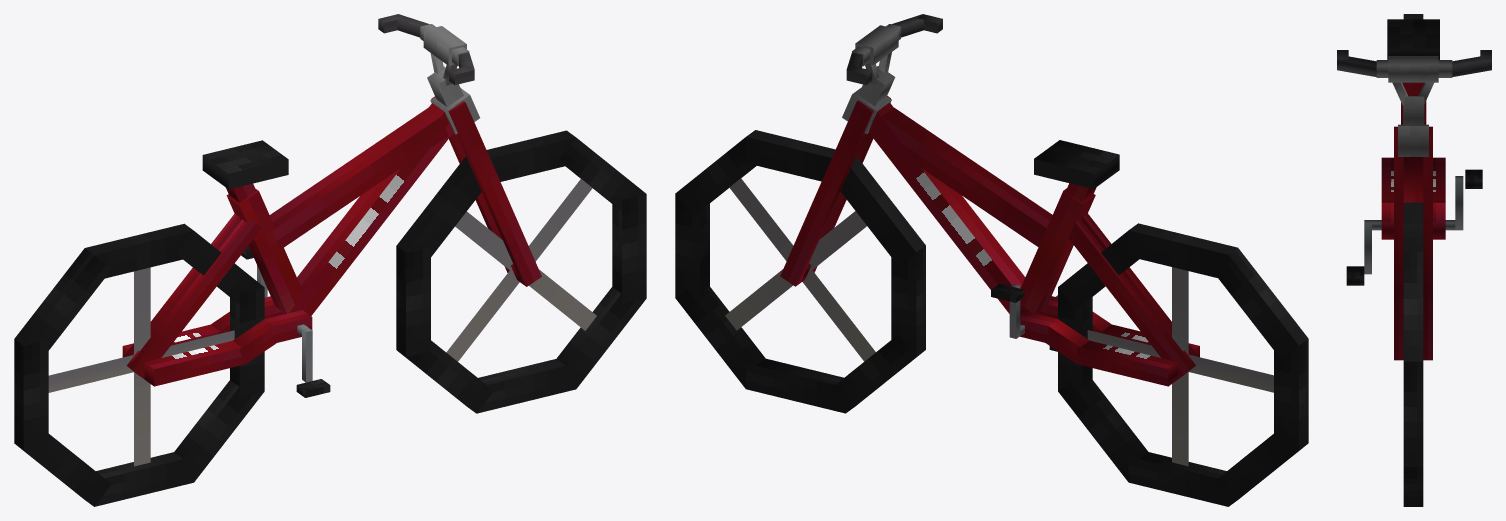
The model's file is Bicycle.fbx.
The picture shows the model from 3 angles, left to right: view 1: azimuth 30°, elevation 25°; view 2: azimuth 150°, elevation 25°; view 3: azimuth 270°, elevation 25°; orthographic projection.
Parts seen in each view (by area): view 1: Bicycle; view 2: Bicycle; view 3: Bicycle.
Boxes of the visible parts, left/top/right/bottom form: Bicycle: left=14, top=14, right=646, bottom=506; Bicycle: left=675, top=14, right=1308, bottom=506; Bicycle: left=1337, top=14, right=1491, bottom=506.
Bounding box in the file's own units: 1.17 × 0.6818 × 0.2489.
Materials: 1 (1 with a texture image).
